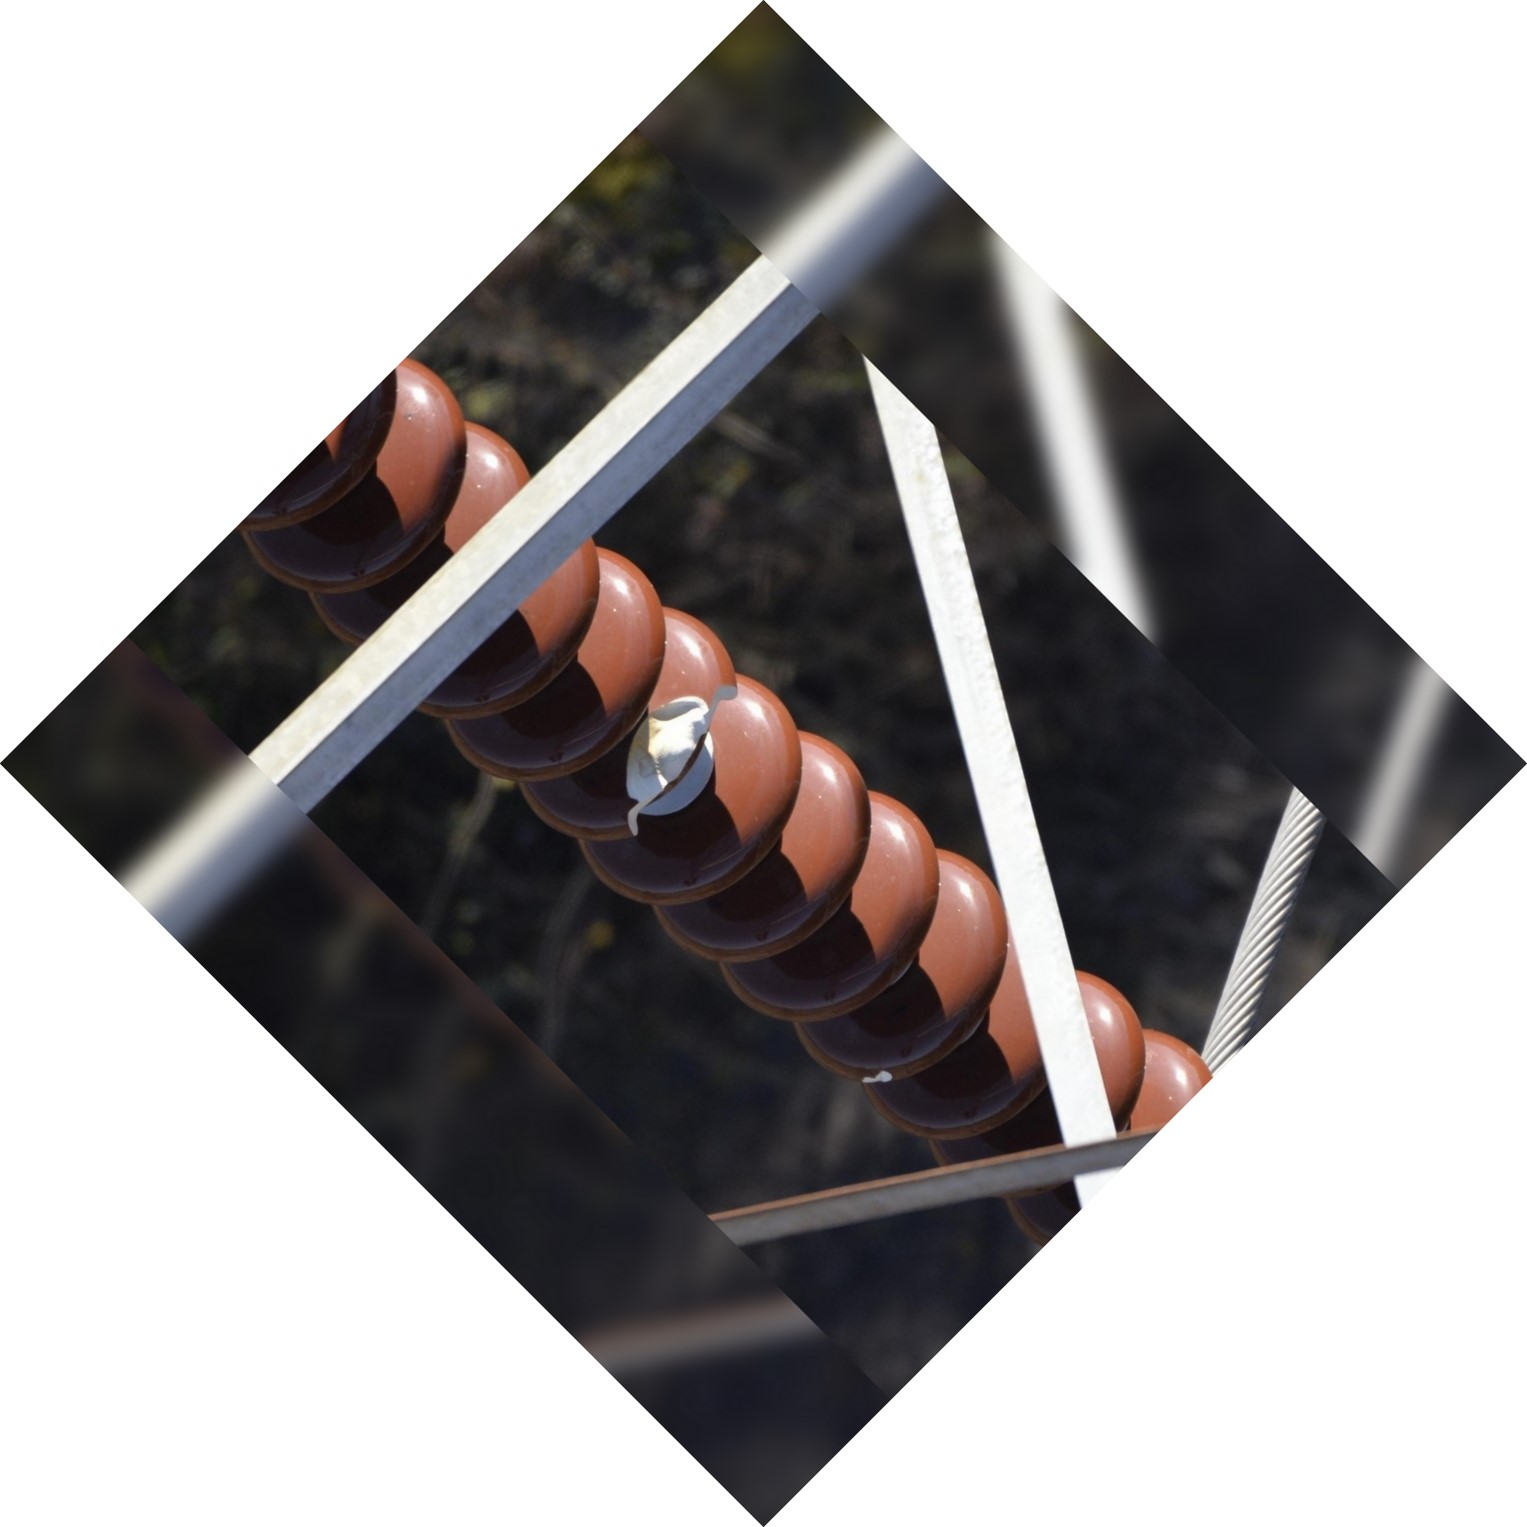insulator breakage: (508, 597, 755, 859)
